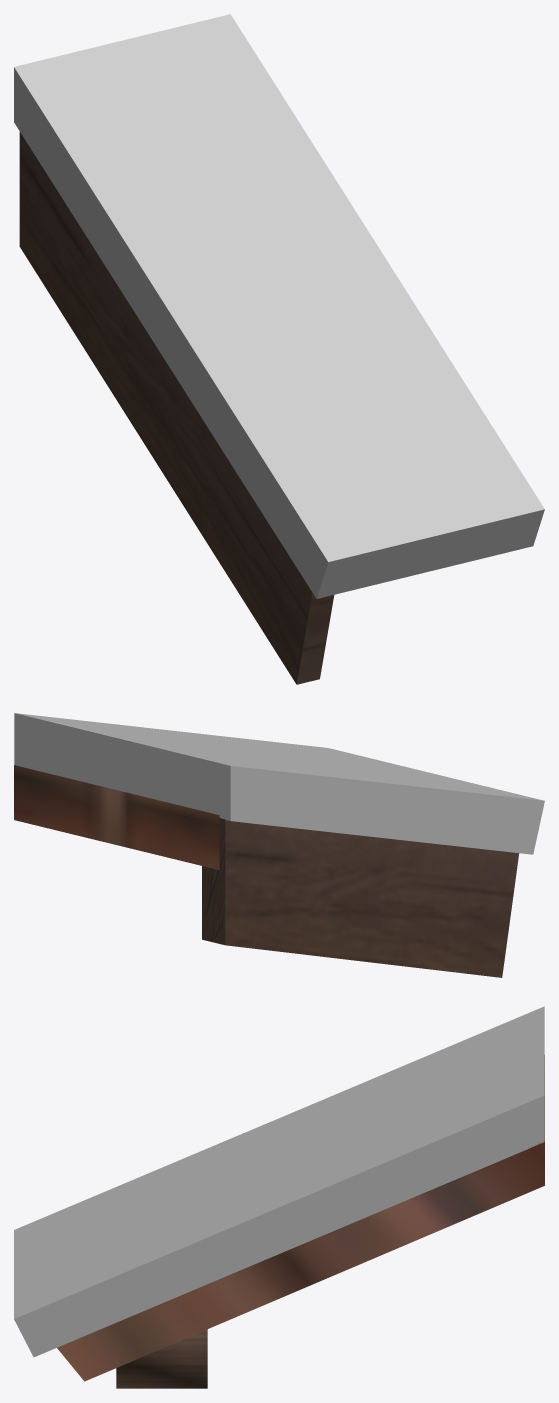
Rendered from kawara__x0t_a0end_r.fbx.
3 renders of one model, top to bottom at view 1: azimuth 30°, elevation 25°; view 2: azimuth 150°, elevation 25°; view 3: azimuth 270°, elevation 25°, orthographic. The views are drawn at different scales.
Visible parts, largest first — view 1: kawara__x0t_a0end_r; view 2: kawara__x0t_a0end_r; view 3: kawara__x0t_a0end_r.
Boxes of the visible parts, box(x1,y1,x2,y2) form: kawara__x0t_a0end_r: box(14, 14, 544, 684); kawara__x0t_a0end_r: box(14, 713, 544, 977); kawara__x0t_a0end_r: box(14, 1006, 544, 1388).
Bounding box in the file's own units: 30 × 55.1 × 75.47.
